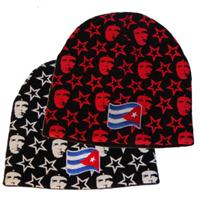hat: (42, 11, 194, 147), (4, 60, 160, 190)
